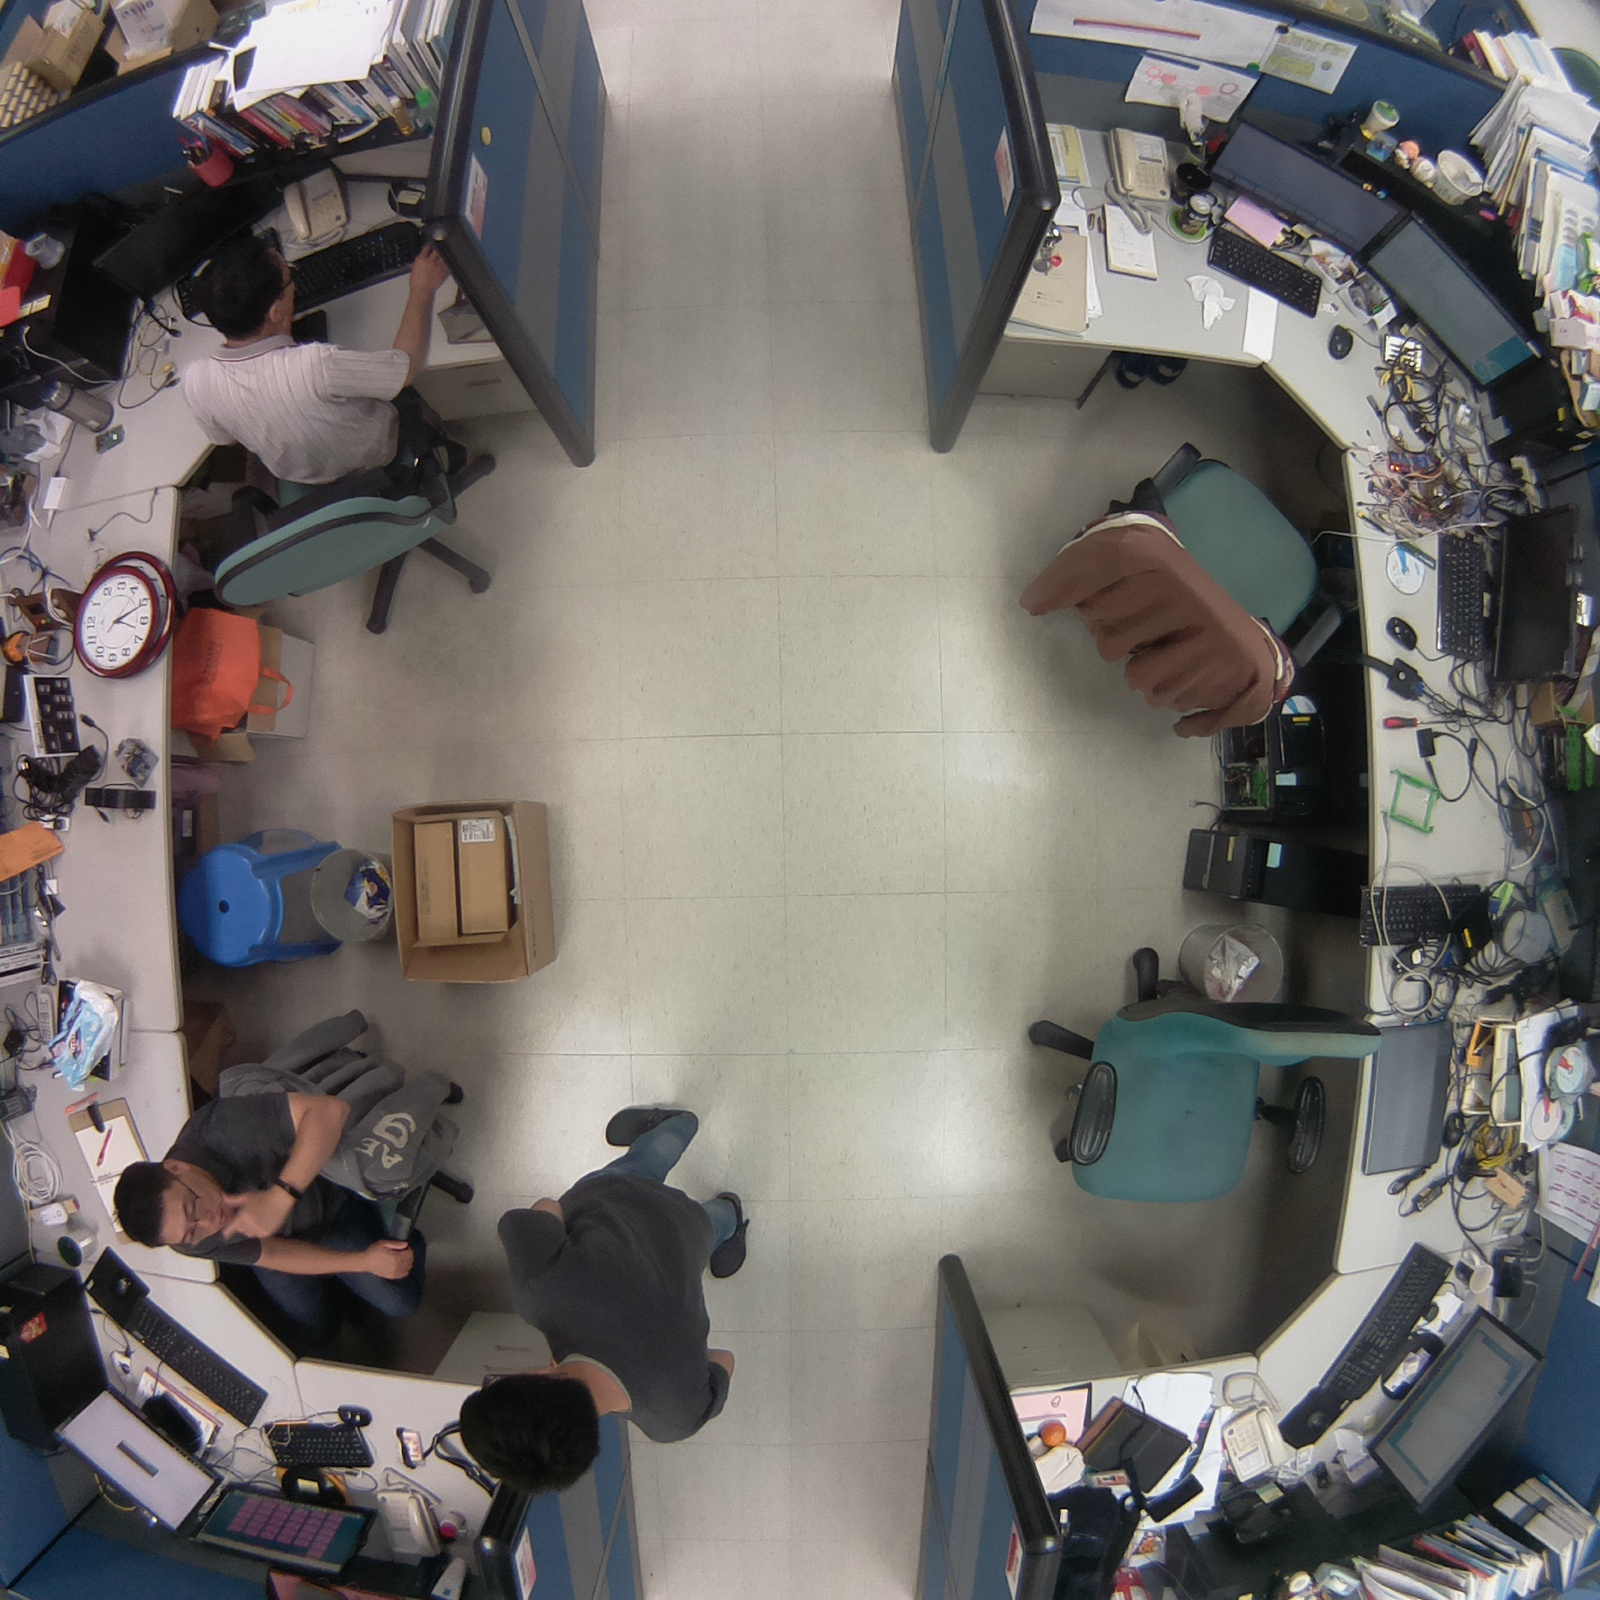chair: (1014, 399, 1360, 763), (981, 922, 1404, 1211)
head: (456, 1367, 611, 1506), (188, 233, 311, 337), (103, 1153, 227, 1253)
sitting: (175, 232, 524, 658), (94, 996, 481, 1331)
standing: (444, 1089, 784, 1517)
